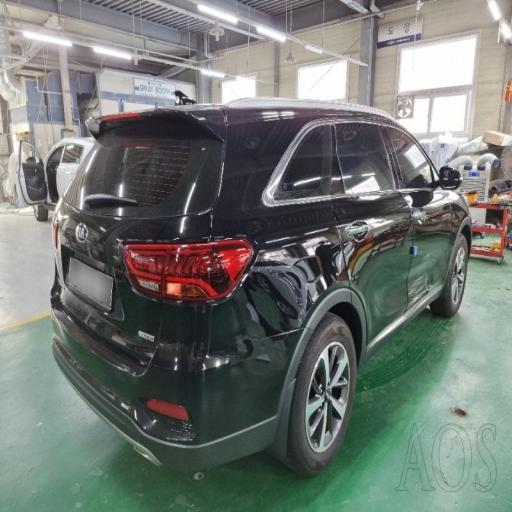dent: (136, 154, 274, 456), (45, 272, 168, 400)
